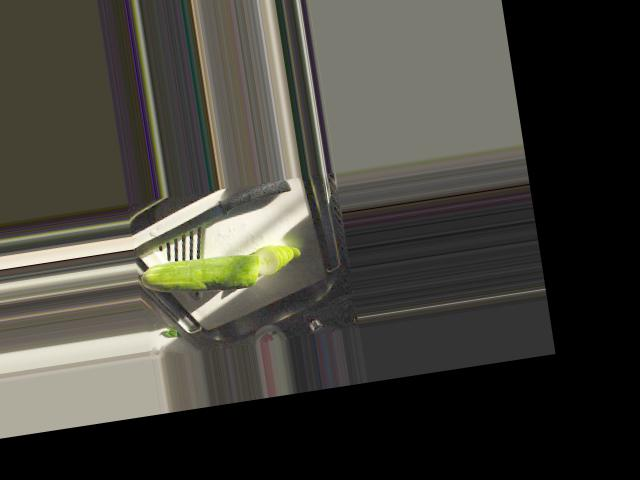cucumber: (139, 248, 264, 302)
